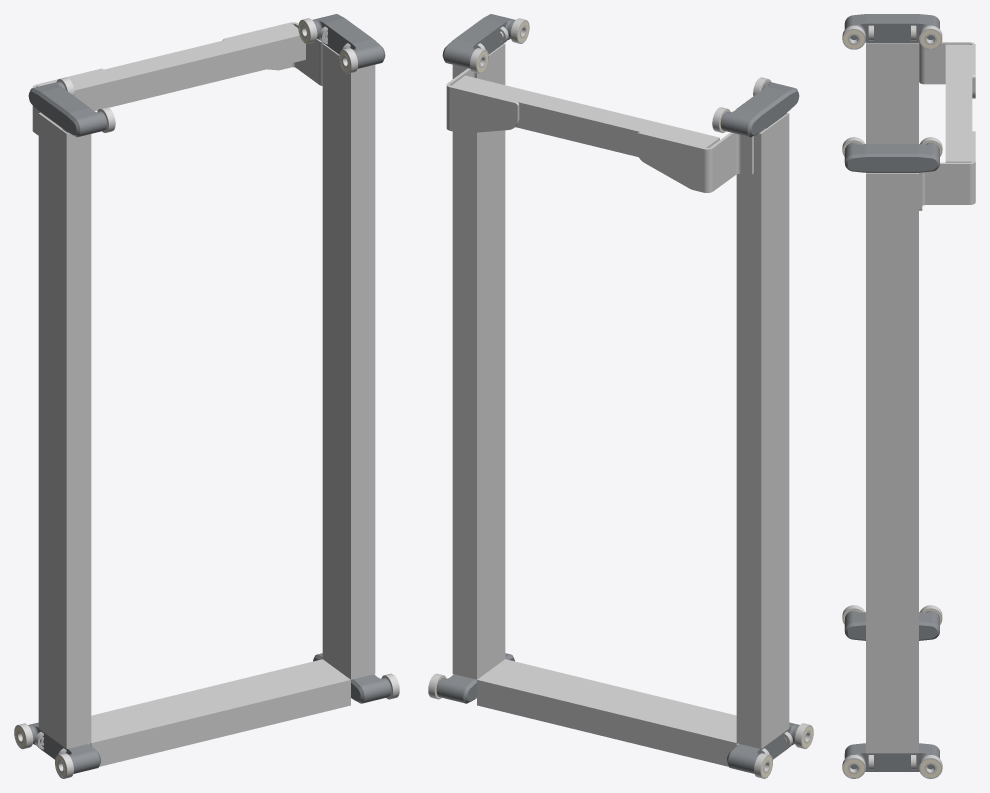
The model's file is Blinky Stage1.fbx.
3 views of the same model, side by side, from view 1: azimuth 30°, elevation 25°; view 2: azimuth 150°, elevation 25°; view 3: azimuth 270°, elevation 25° (orthographic). The views are drawn at different scales.
Visible parts, largest first — view 1: mesh1, mesh1.001, mesh2.001, mesh2, mesh49, mesh50, mesh40, mesh39, mesh118.002, mesh146; view 2: mesh1, mesh1.001, mesh0, mesh0.001, mesh49, mesh48, mesh39, mesh38, mesh33, mesh159, mesh24, mesh118.002; view 3: mesh3, mesh3.001, mesh39, mesh150, mesh118.003, mesh125, mesh125.002, mesh20, mesh120, mesh120.002, mesh118, mesh153 (+1 smaller).
Boxes of the visible parts, <box> form: mesh1: <box>38,113,66,748</box>; mesh1.001: <box>322,44,350,679</box>; mesh2.001: <box>66,133,91,748</box>; mesh2: <box>351,64,375,679</box>; mesh49: <box>91,659,350,742</box>; mesh50: <box>91,680,350,766</box>; mesh40: <box>74,35,305,111</box>; mesh39: <box>38,24,299,90</box>; mesh118.002: <box>28,91,76,134</box>; mesh146: <box>296,24,319,84</box>; mesh1: <box>761,113,789,748</box>; mesh1.001: <box>477,44,505,679</box>; mesh0: <box>736,133,761,748</box>; mesh0.001: <box>452,64,476,679</box>; mesh49: <box>477,659,736,742</box>; mesh48: <box>477,680,736,766</box>; mesh39: <box>451,75,719,147</box>; mesh38: <box>515,102,639,156</box>; mesh33: <box>636,133,703,192</box>; mesh159: <box>450,87,517,133</box>; mesh24: <box>713,133,736,191</box>; mesh118.002: <box>751,91,799,134</box>; mesh3: <box>866,174,918,753</box>; mesh3.001: <box>866,43,918,143</box>; mesh39: <box>945,44,972,161</box>; mesh150: <box>925,164,969,204</box>; mesh118.003: <box>847,157,937,171</box>; mesh125: <box>861,753,923,771</box>; mesh125.002: <box>861,24,923,42</box>; mesh20: <box>925,43,969,84</box>; mesh120: <box>866,144,918,153</box>; mesh120.002: <box>866,14,918,23</box>; mesh118: <box>847,625,937,639</box>; mesh153: <box>969,162,975,204</box>.
Size of the model in its own units: 33.95 by 64.6 by 12.5.
